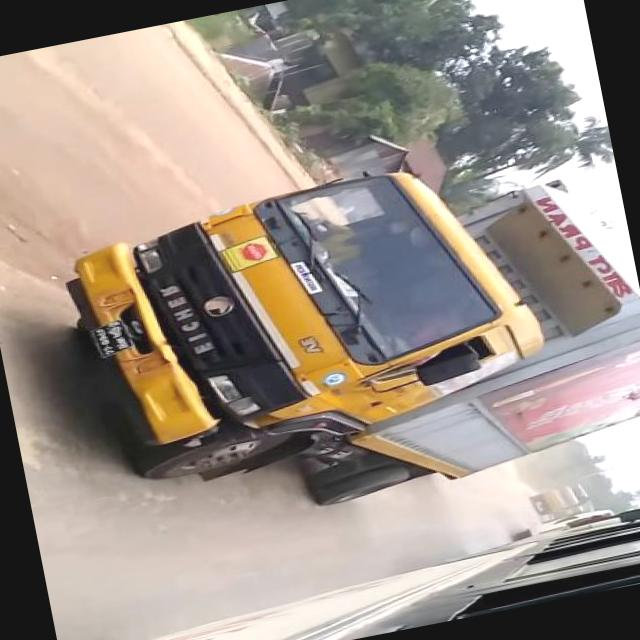bus: (59, 505, 640, 640)
truck: (56, 126, 640, 549), (530, 482, 592, 520)
